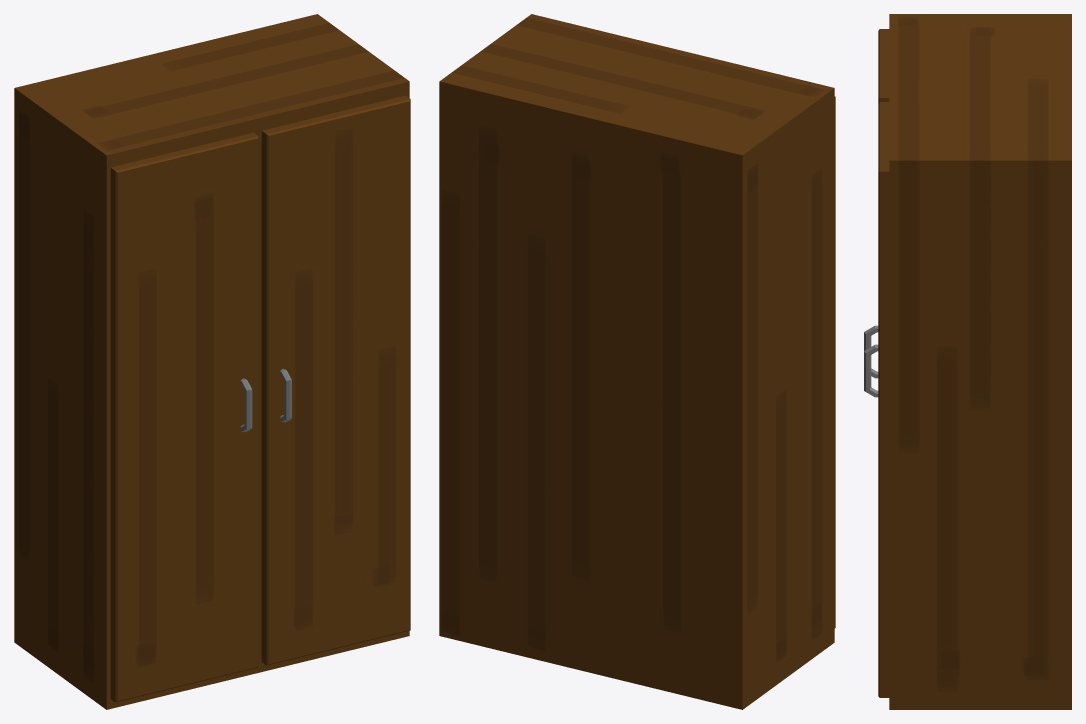
Rendered from armadio_1.FBX.
3 renders of one model, left to right at view 1: azimuth 30°, elevation 25°; view 2: azimuth 150°, elevation 25°; view 3: azimuth 270°, elevation 25°, orthographic.
Parts seen in each view (by area): view 1: armadio ospedale001; view 2: armadio ospedale001; view 3: armadio ospedale001.
Boxes of the visible parts, x1=… form: armadio ospedale001: x1=14, y1=14, x2=410, y2=709; armadio ospedale001: x1=439, y1=14, x2=835, y2=709; armadio ospedale001: x1=864, y1=14, x2=1071, y2=709.
Bounding box in the file's own units: 1.12 × 1.96 × 0.674.
